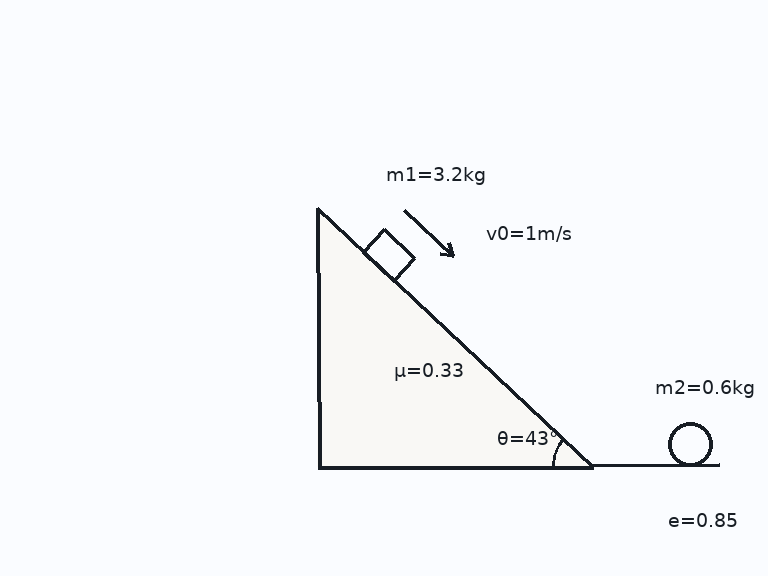ball: (666, 420, 714, 468)
block: (361, 227, 417, 282)
ramp: (315, 207, 595, 468)
